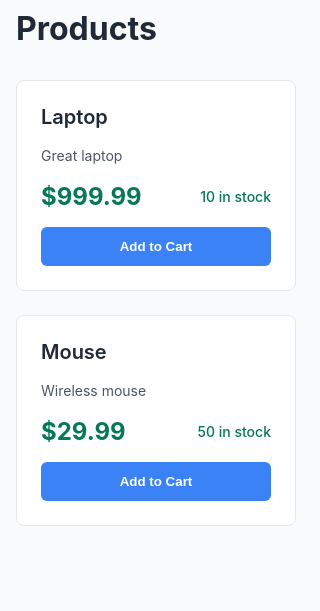
Home Component › shows success message after adding to cart
Check: the heading "Laptop" is shown, box [41, 104, 108, 128]
Click the button "Add to Cart" below "999.99".
click(156, 246)  # box [41, 226, 271, 266]
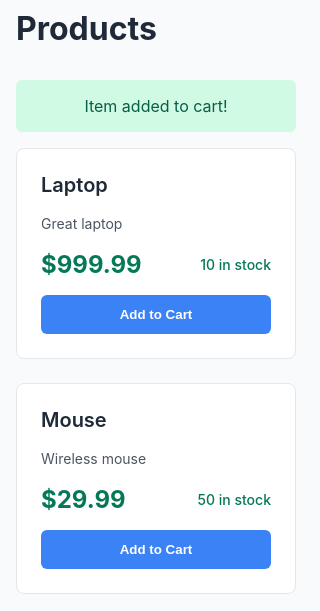
Check: the text "Item added to cart!" is shown, box [16, 80, 296, 132]
